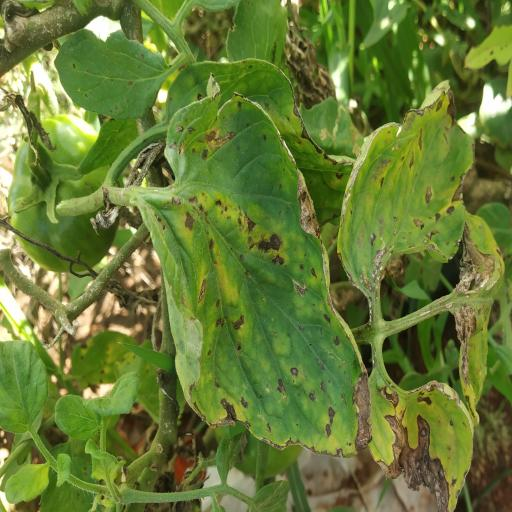Early Blight: (145, 76, 373, 462), (334, 79, 476, 298), (372, 374, 474, 512), (53, 27, 162, 120)
